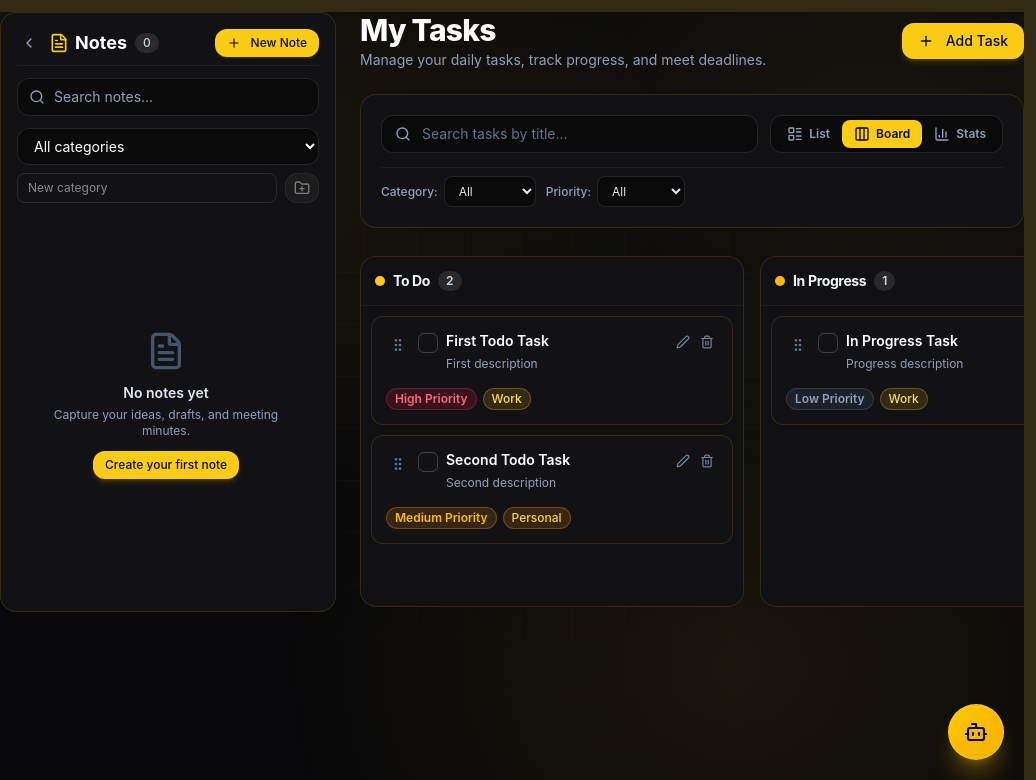
Test case: KanbanBoard & Reorder Support › DashboardPage: keeps view choice in URL, hides status filter and pagination in board view
Check: the element with test id "kanban-board-container" is shown, box [360, 252, 1024, 623]
Check: the field labelled "Status:" is not shown
# Click List view toggle
Step 1. Click the button with test id "view-toggle-list" → {"x": 809, "y": 134}, box [775, 120, 842, 148]
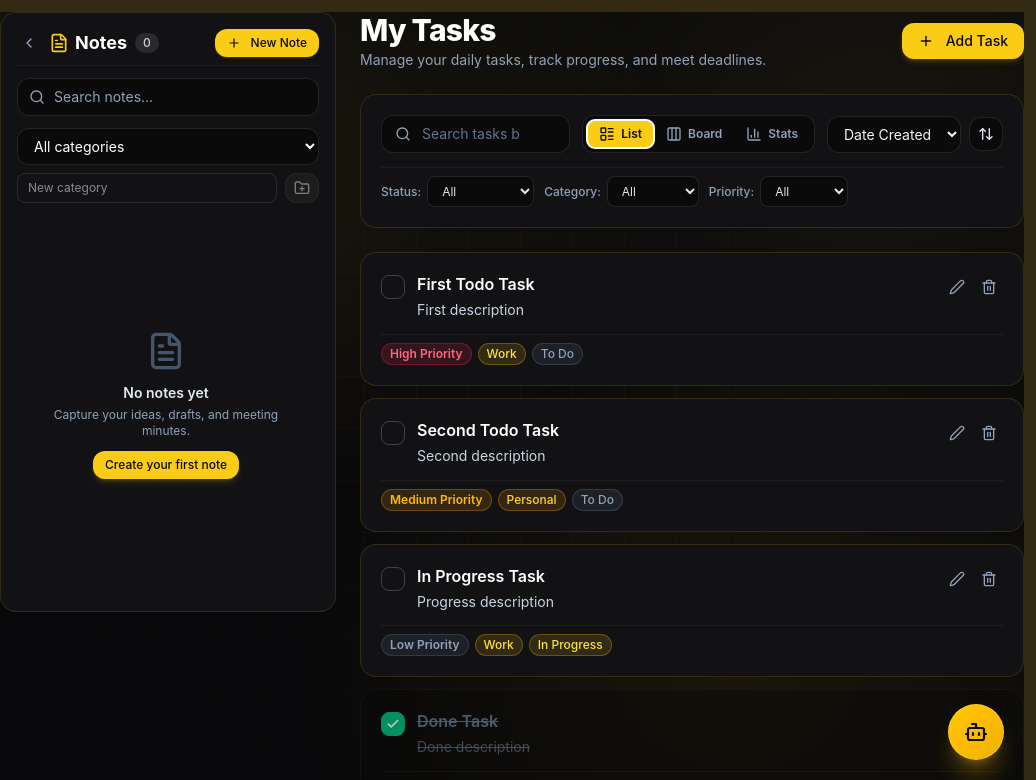
Check: the dropdown labelled "Status:" is shown, box [427, 176, 534, 207]
